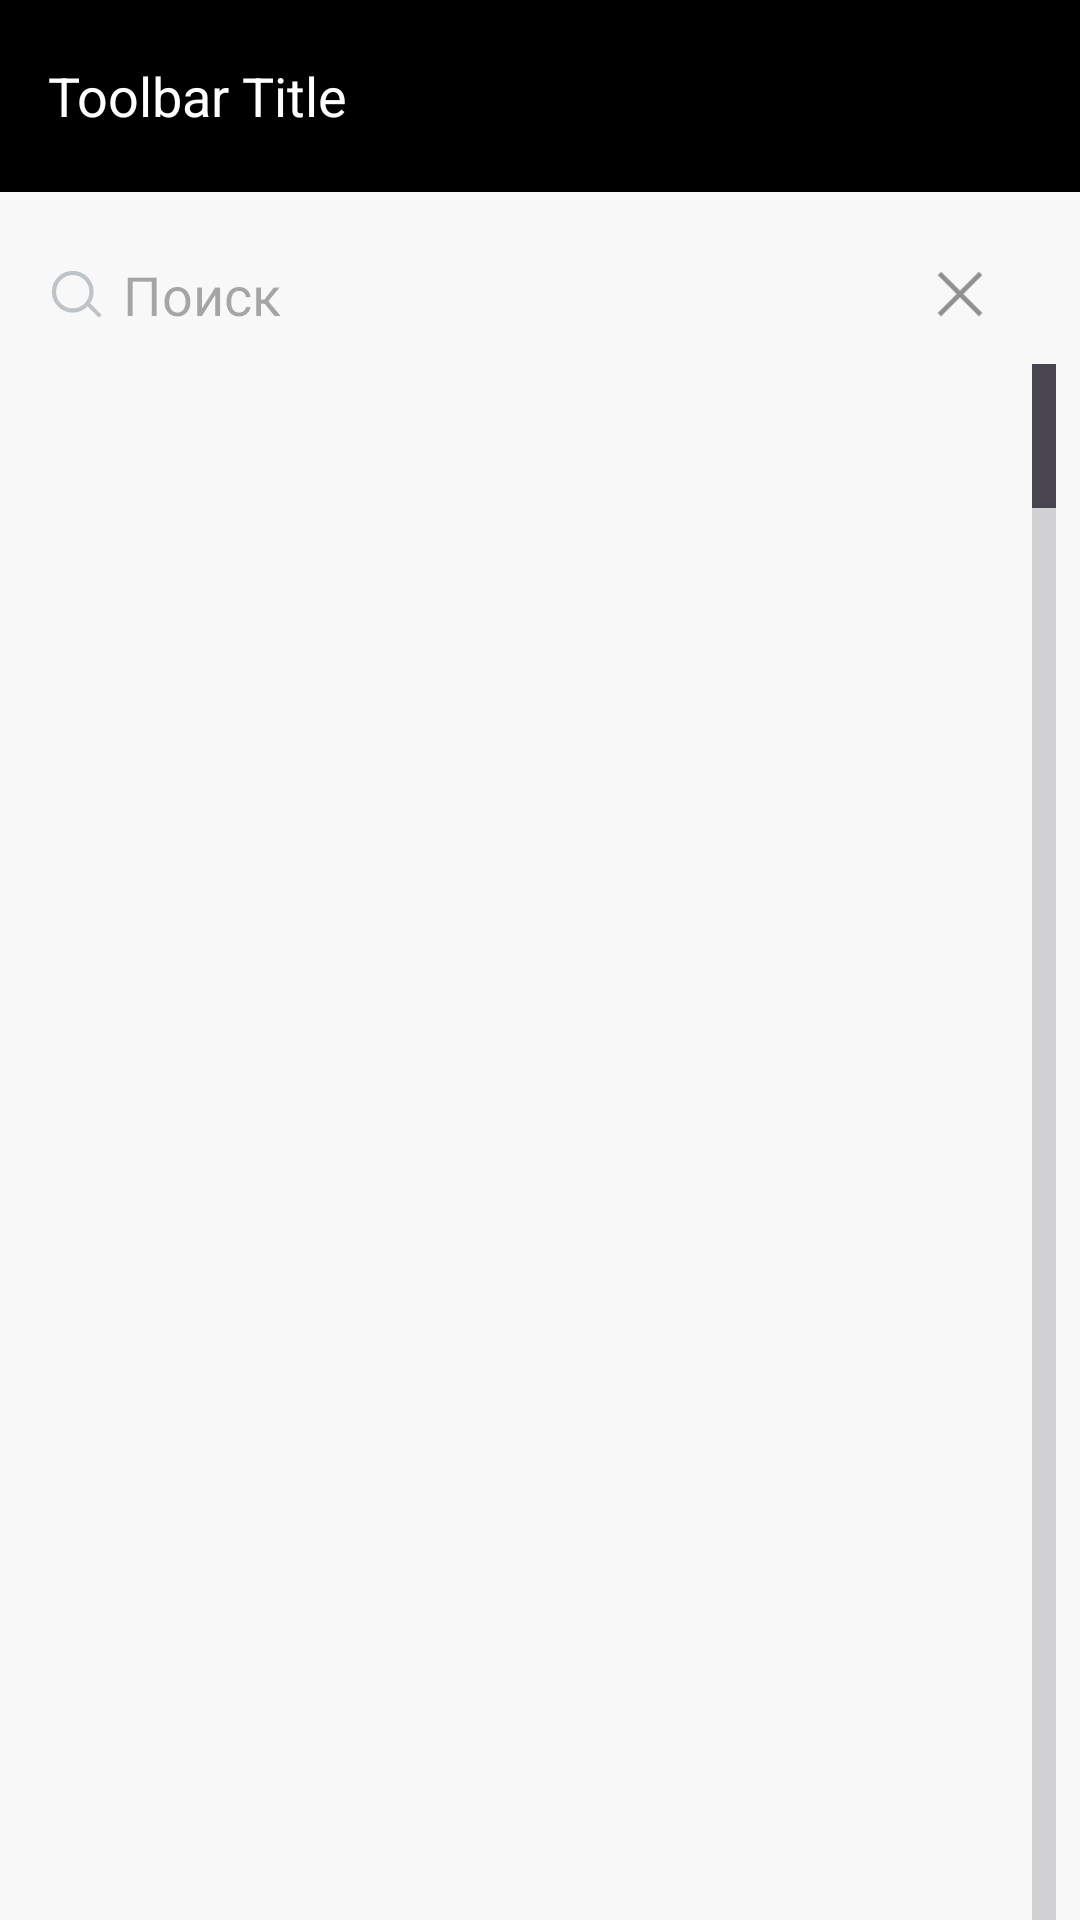

Named icons in this screenshot (1080w x 1920h) and their bounding boxes, (x1, y1, x2, y2):
clear text: (938, 272, 982, 316)
